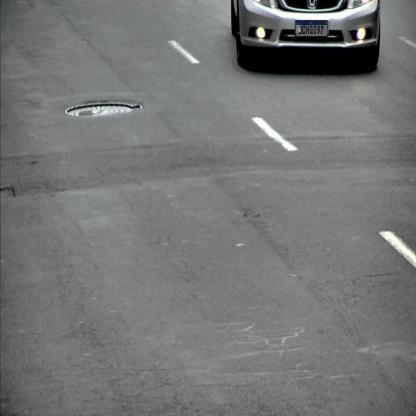PlacaM: (296, 20, 327, 37)
